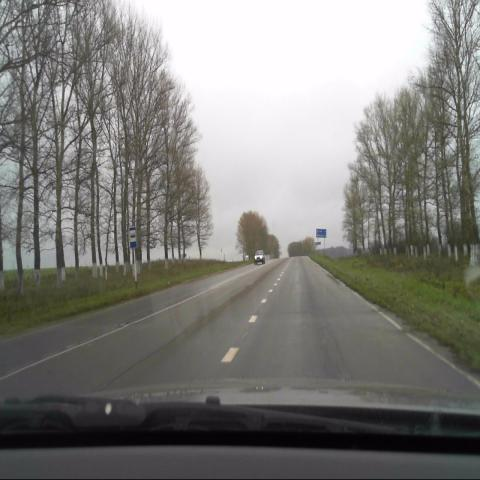5_16: (129, 226, 137, 249)
